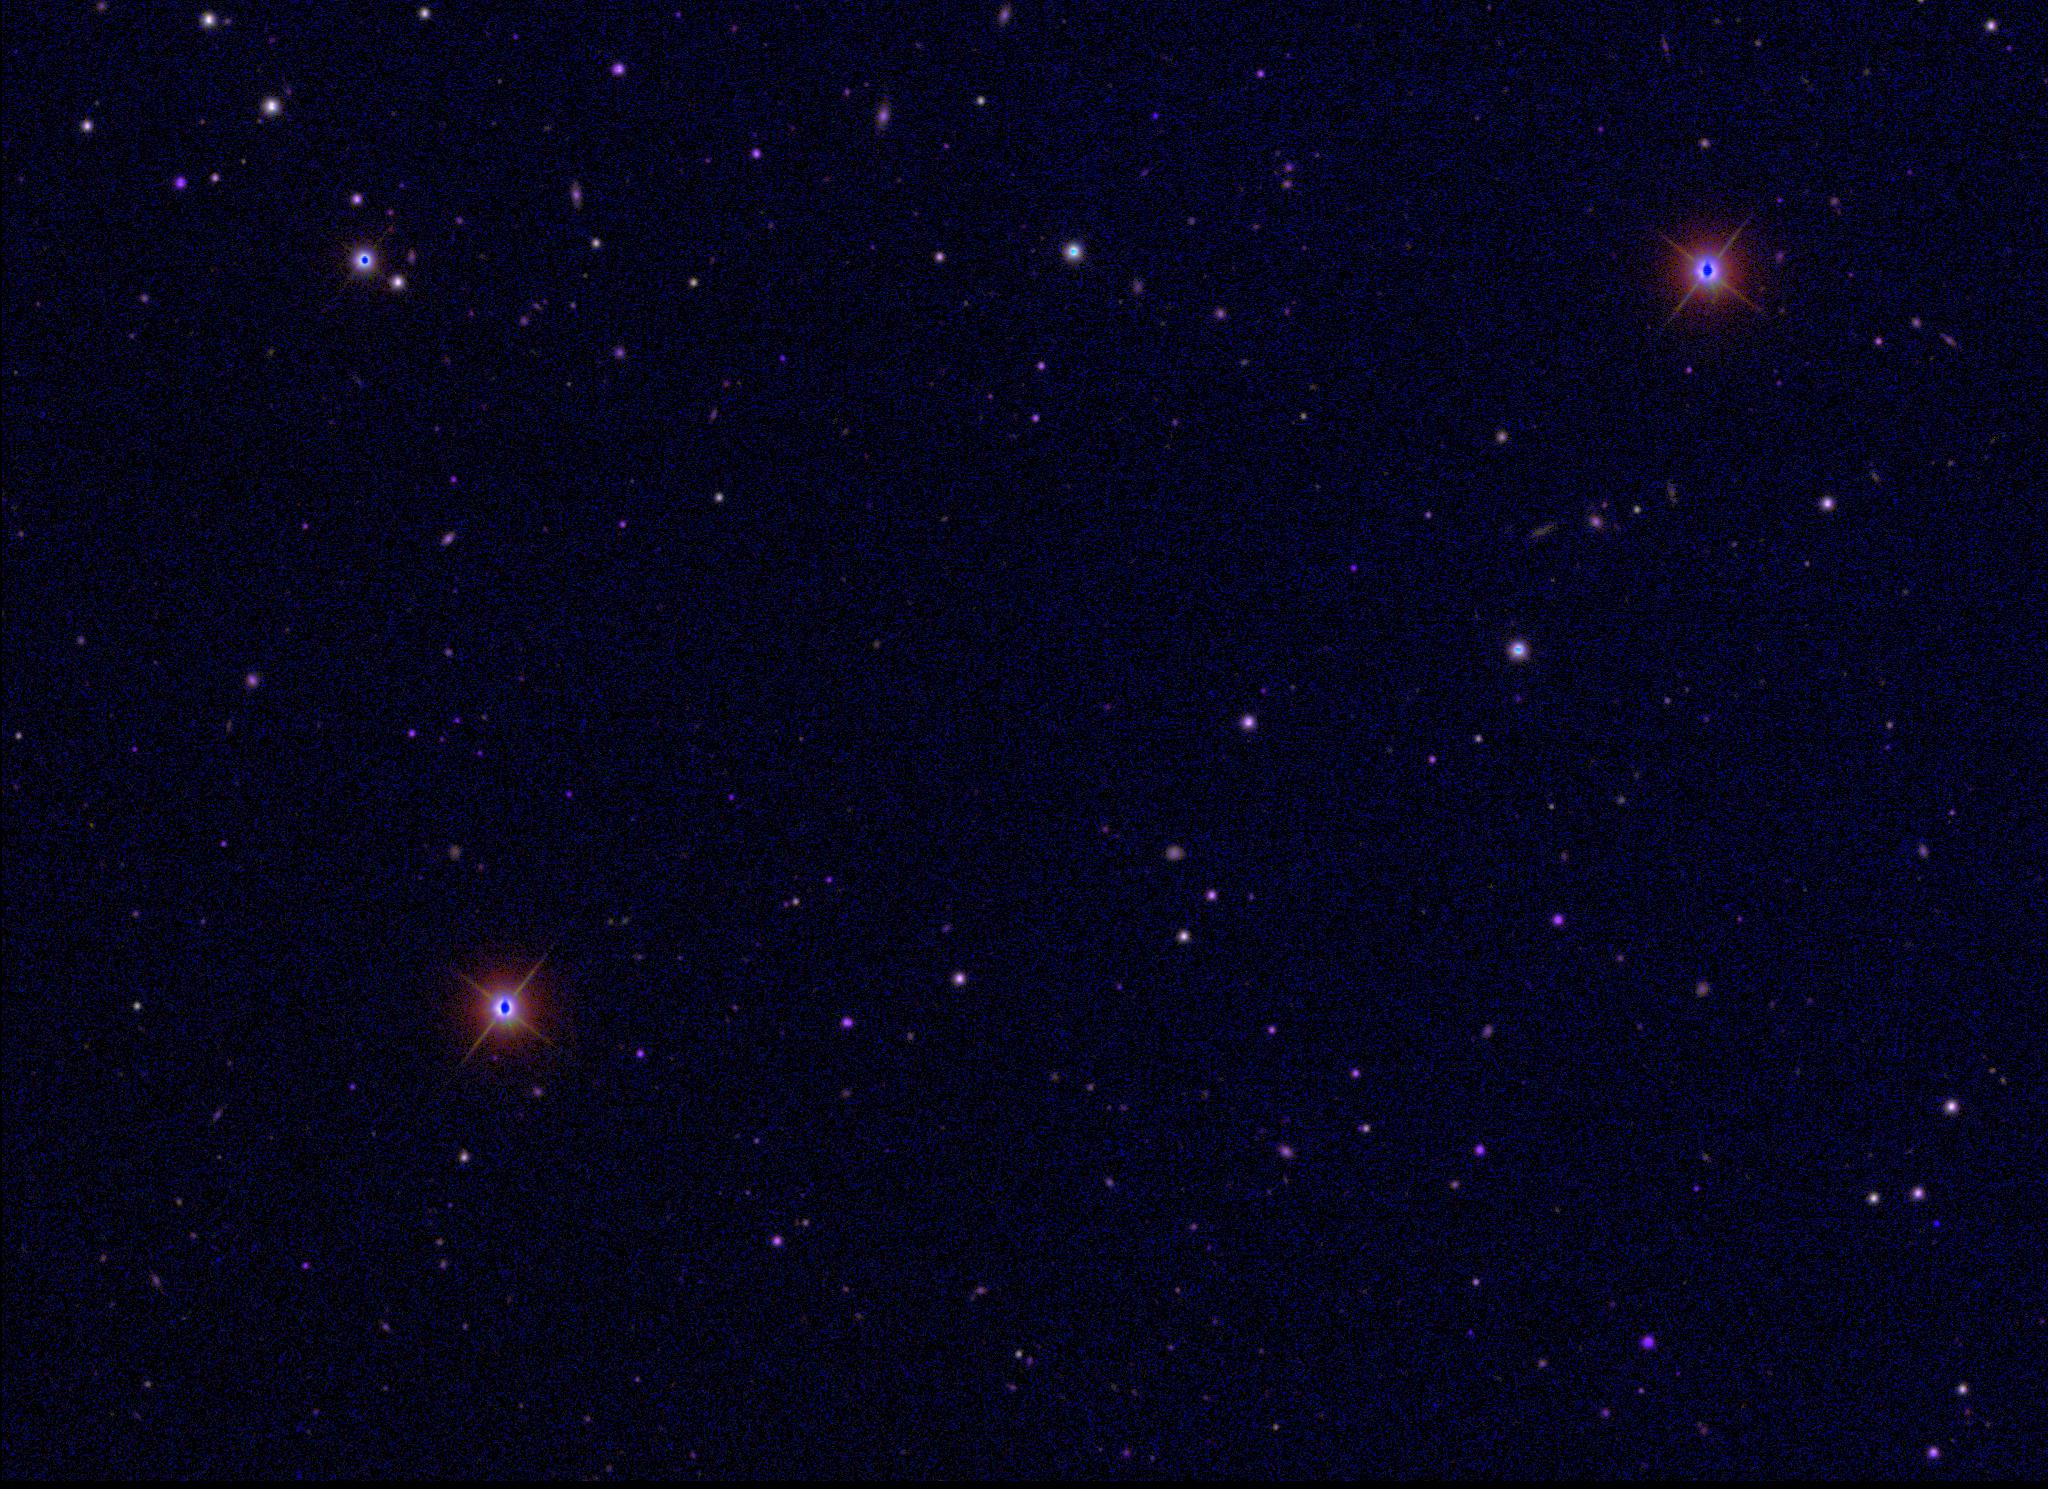L: (1930, 1215, 1945, 1230)
